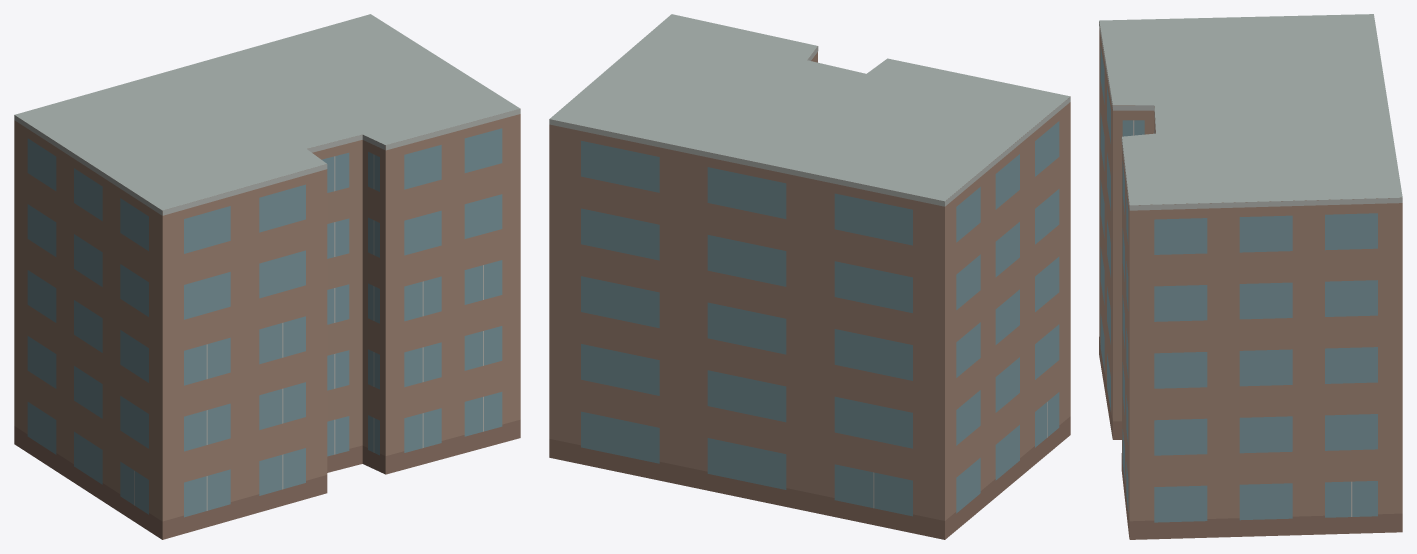
Rendered from survey-upis-32972288.glb.
The picture shows the model from 3 angles, left to right: view 1: azimuth 30°, elevation 25°; view 2: azimuth 150°, elevation 25°; view 3: azimuth 270°, elevation 25°; orthographic projection. The views are drawn at different scales.
Visible parts, largest first — view 1: survey-upis-32972288.tmp; view 2: survey-upis-32972288.tmp; view 3: survey-upis-32972288.tmp.
Part boxes in pixels (left/top/right/bottom): survey-upis-32972288.tmp: left=14, top=14, right=520, bottom=539; survey-upis-32972288.tmp: left=549, top=14, right=1070, bottom=539; survey-upis-32972288.tmp: left=1099, top=14, right=1402, bottom=539.
Bounding box in the file's own units: 18.78 × 15.3 × 12.59.
